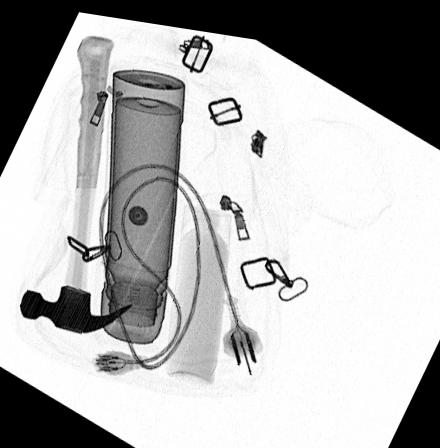Hammer: (19, 32, 134, 331)
